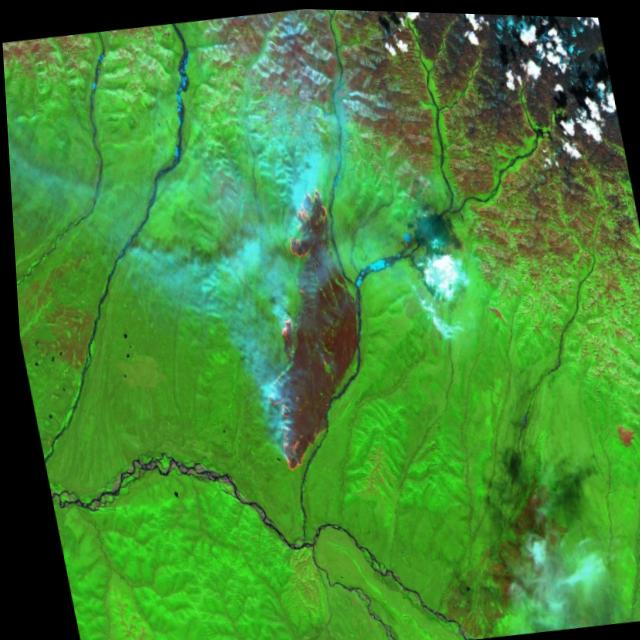fire: (243, 310, 321, 479), (272, 181, 333, 260)
